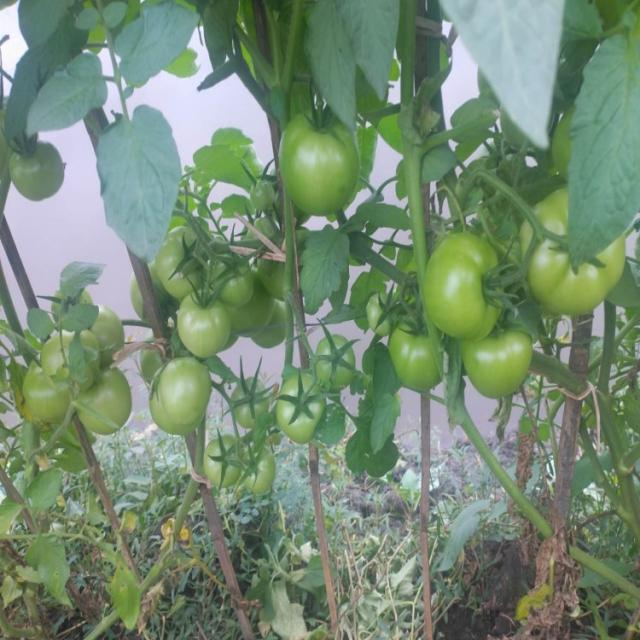tomato: (520, 190, 628, 311), (418, 231, 504, 336), (278, 113, 363, 217), (463, 330, 537, 395), (15, 362, 79, 428), (155, 363, 213, 434), (277, 365, 324, 448), (81, 368, 135, 439), (390, 319, 444, 388), (174, 300, 227, 364), (8, 144, 62, 202), (157, 229, 204, 295), (39, 334, 91, 390), (316, 332, 361, 393), (209, 255, 257, 305), (202, 438, 250, 488), (233, 375, 275, 431), (50, 288, 97, 329), (233, 299, 278, 340), (256, 307, 294, 352), (261, 252, 295, 299), (89, 309, 124, 354), (554, 109, 580, 169), (368, 294, 400, 333), (247, 451, 277, 491)
